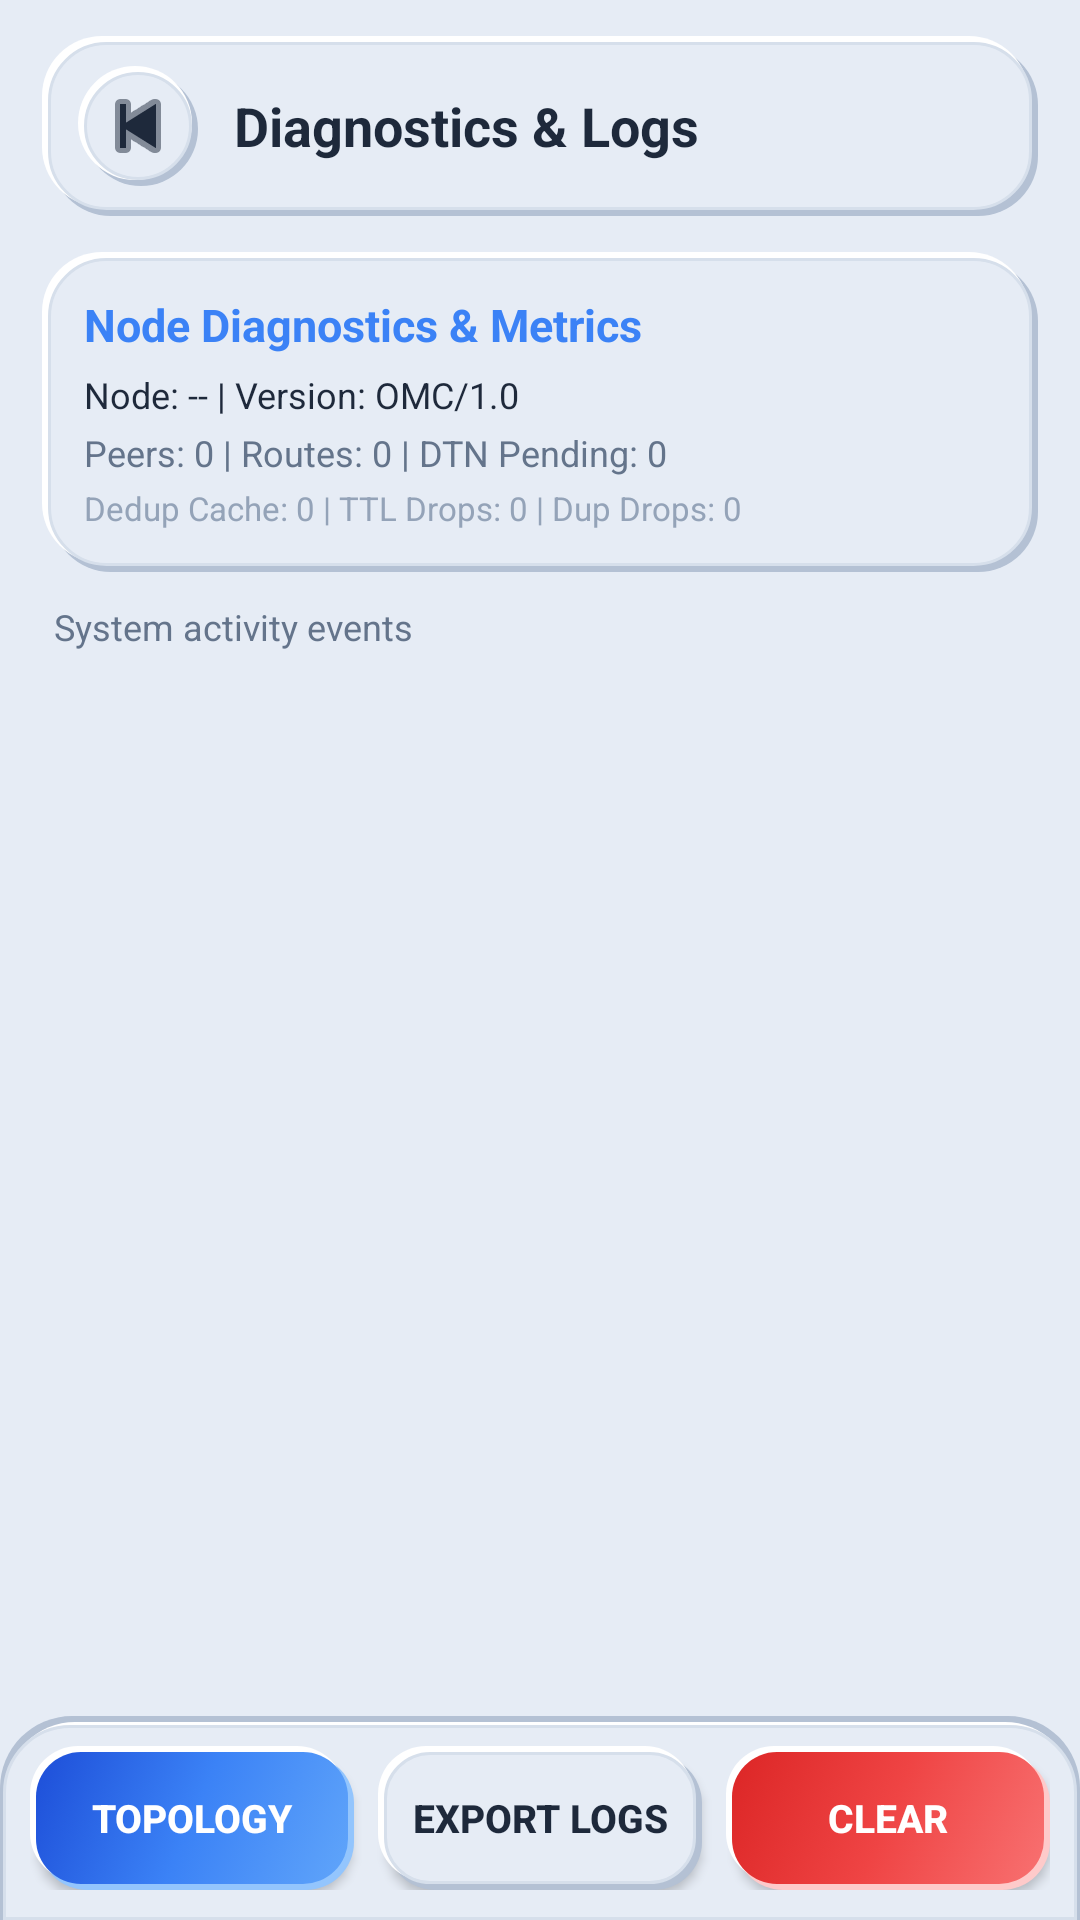

Where icons sit on this 1080*1920 app screen, as bbox=(x1, y1, x2, y2):
Back: bbox=(78, 66, 198, 186)
